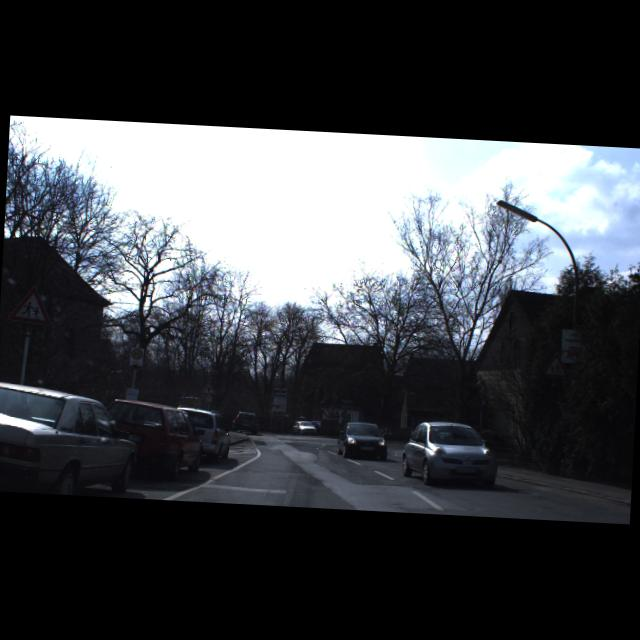danger: (7, 284, 54, 326), (540, 352, 570, 379), (202, 381, 217, 396)
